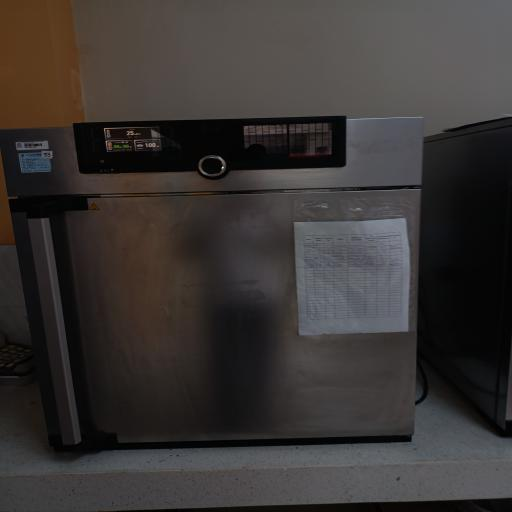Memmert_Unidad2: (4, 117, 447, 454)
